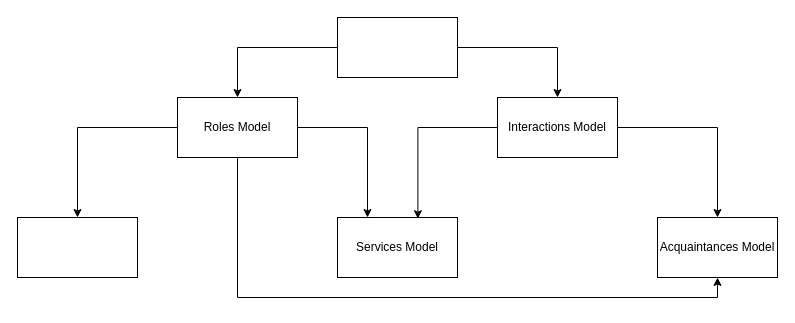
The diagram is 795 pixels wide and 323 high, and some of its shapes have lost their labels. The centre of each missing label's shape, as x and y in pixels:
"Agents Model" belongs at (77,247).
"Requirements" belongs at (397,47).
